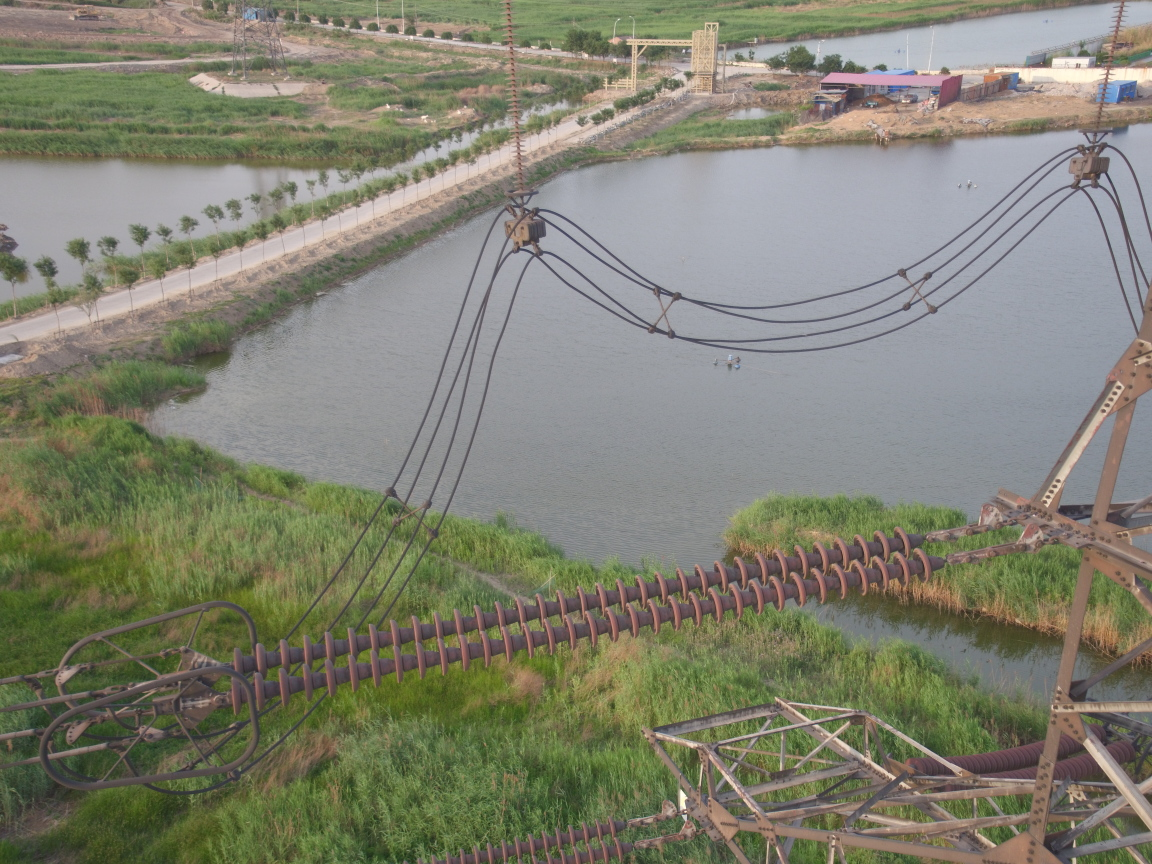insulator: (206, 523, 976, 721)
